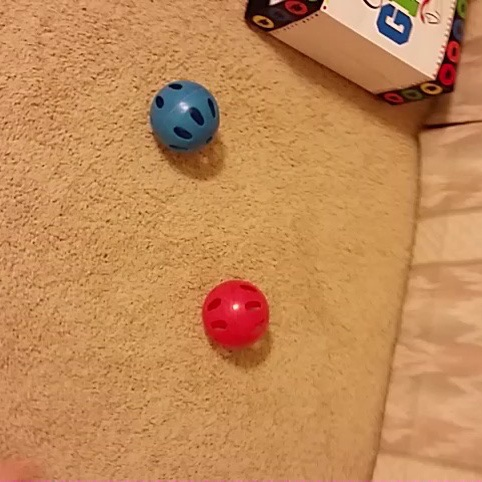ball: (145, 75, 224, 157), (198, 274, 275, 354)
